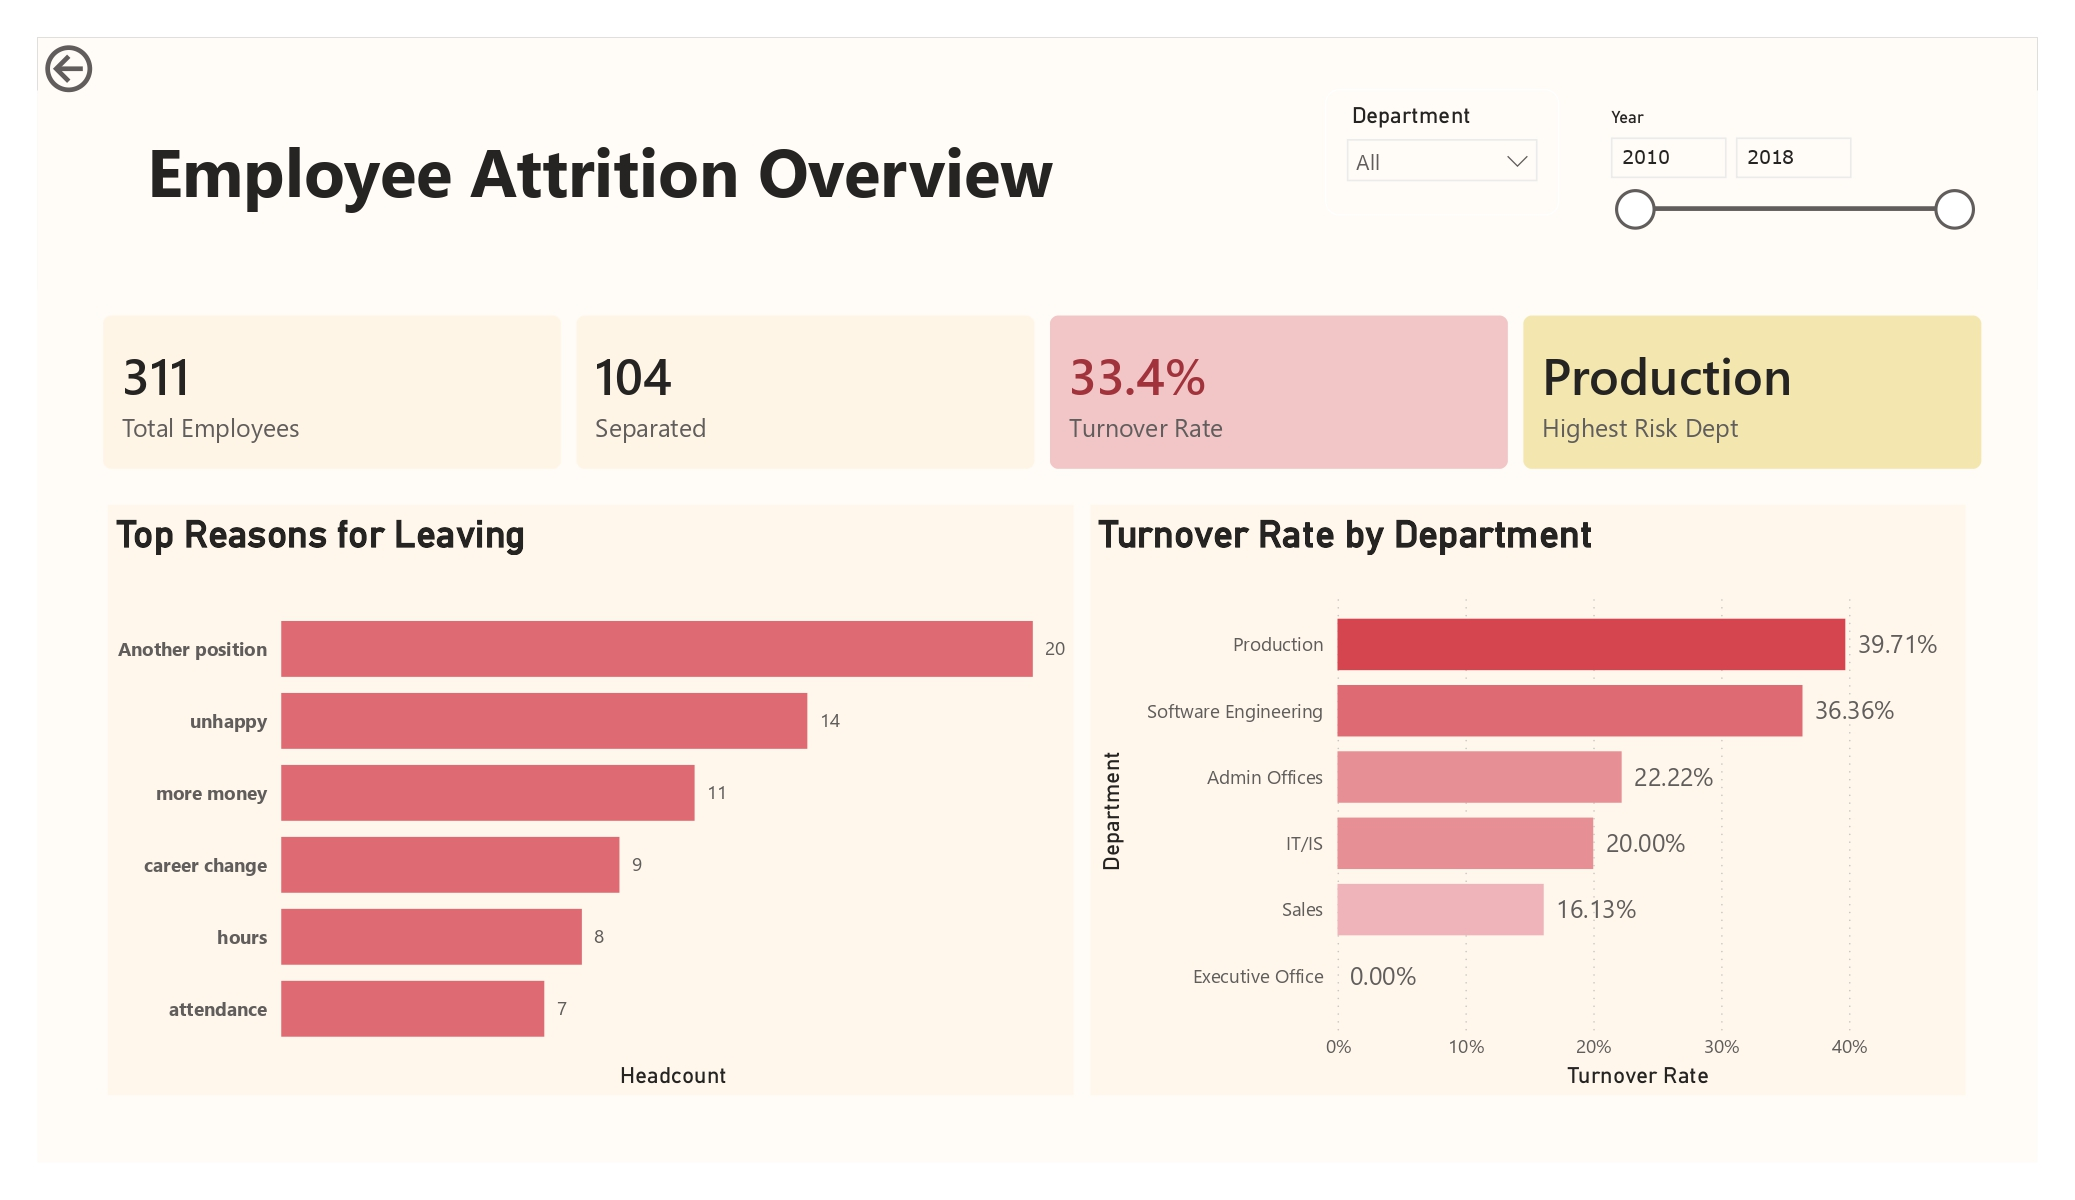

The dashboard page shown, as its layout file describes it:
{"tool":"powerbi","page":{"name":"Page 1","canvas":[1280,720],"ordinal":0},"visuals":[{"type":"cardVisual","fields":{"Data":["public vw_attrition_detail.Total Employees","public vw_attrition_detail.Separated","public vw_attrition_detail.Turnover Rate","public vw_attrition_detail.Highest Risk Dept"]},"box":[30.8,166.7,1225.6,120.5],"z":0},{"type":"slicer","fields":{"Values":["public vw_attrition_detail.department"]},"box":[824.4,33.3,150,80.8],"z":1000},{"type":"slicer","fields":{"Values":["public vw_attrition_detail.resignationyear"]},"box":[994.1,40.3,253.9,97.5],"z":2000},{"type":"clusteredBarChart","title":"Top Reasons for Leaving","fields":{"Category":["public vw_attrition_detail.termreason"],"Y":["Count(public vw_attrition_detail.empid)"]},"box":[44.9,298.8,617.8,377.8],"z":3000},{"type":"actionButton","box":[0,0,100,40],"z":4000},{"type":"clusteredBarChart","title":"Turnover Rate by Department","fields":{"Category":["public vw_attrition_detail.department"],"Y":["public vw_attrition_detail.Turnover Rate"]},"box":[673.5,298.8,560.5,377.8],"z":5000},{"type":"textbox","box":[65,51.1,608.5,69.7],"z":6000}]}

Visuals, with their boxes on the page's 1280x720 design canvas (x1, y1, x2, y2). These are canvas units, not pixel positions in the 2075x1200 screenshot, which may show the page scaled, cropped or inside an application window:
cardVisual - public vw_attrition_detail.Total Employees x public vw_attrition_detail.Separated: region(31, 167, 1256, 287)
slicer - public vw_attrition_detail.department: region(824, 33, 974, 114)
slicer - public vw_attrition_detail.resignationyear: region(994, 40, 1248, 138)
"Top Reasons for Leaving" clusteredBarChart: region(45, 299, 663, 677)
actionButton: region(0, 0, 100, 40)
"Turnover Rate by Department" clusteredBarChart: region(674, 299, 1234, 677)
textbox: region(65, 51, 674, 121)
